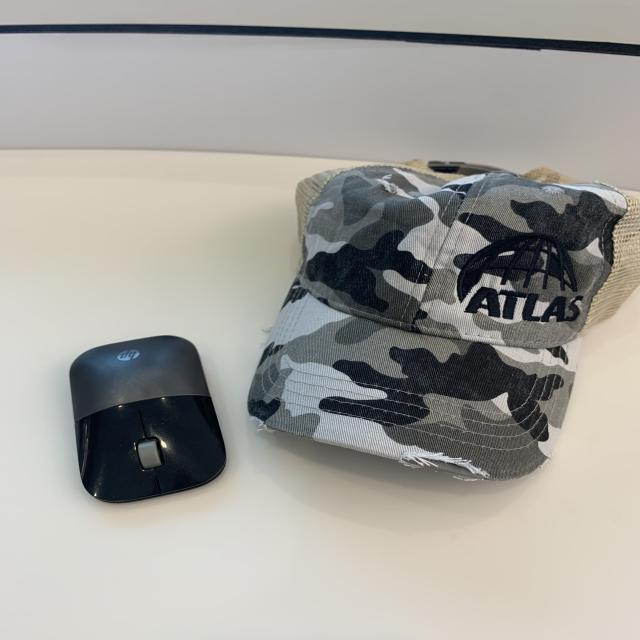Mouse: (52, 328, 243, 516)
